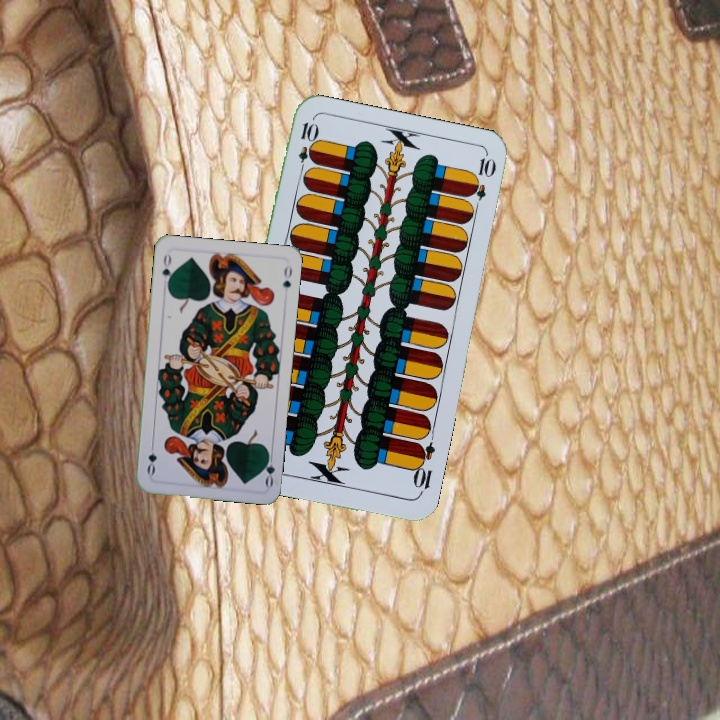E10: (408, 439, 438, 498), (294, 118, 318, 177)
GO: (259, 448, 277, 489), (158, 250, 175, 290)
